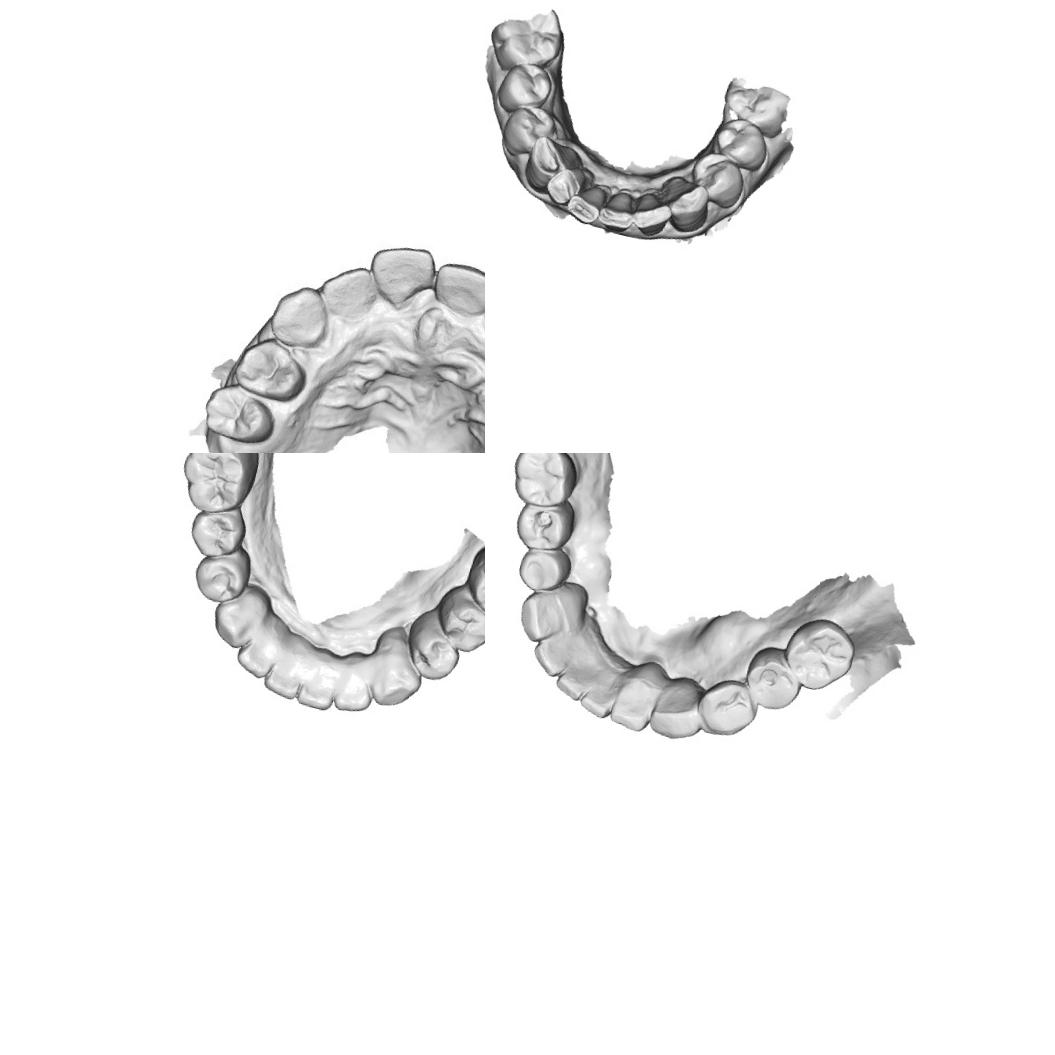canine: (362, 622, 434, 714), (207, 577, 275, 654), (265, 280, 335, 354), (647, 670, 710, 744), (652, 172, 715, 236), (512, 586, 572, 650), (520, 131, 572, 197)
incisor: (365, 240, 440, 311), (231, 607, 286, 683), (320, 262, 381, 325), (260, 629, 312, 702), (331, 649, 382, 717), (294, 647, 344, 712), (432, 258, 485, 317), (606, 678, 659, 734), (528, 630, 577, 681), (628, 190, 676, 240), (541, 161, 588, 210), (563, 179, 606, 226), (596, 188, 638, 235), (575, 678, 618, 722), (552, 660, 593, 704)
molar: (776, 610, 862, 698), (485, 0, 570, 82), (172, 453, 263, 522), (505, 453, 584, 513), (459, 539, 485, 624)
premolar: (397, 601, 470, 686), (739, 642, 809, 717), (196, 382, 272, 449), (691, 672, 763, 742), (237, 337, 312, 403), (189, 540, 256, 609), (510, 492, 579, 558), (684, 147, 750, 212), (492, 57, 558, 121), (430, 581, 485, 657), (496, 99, 559, 164), (185, 502, 251, 563), (710, 113, 774, 174), (514, 540, 576, 598)
